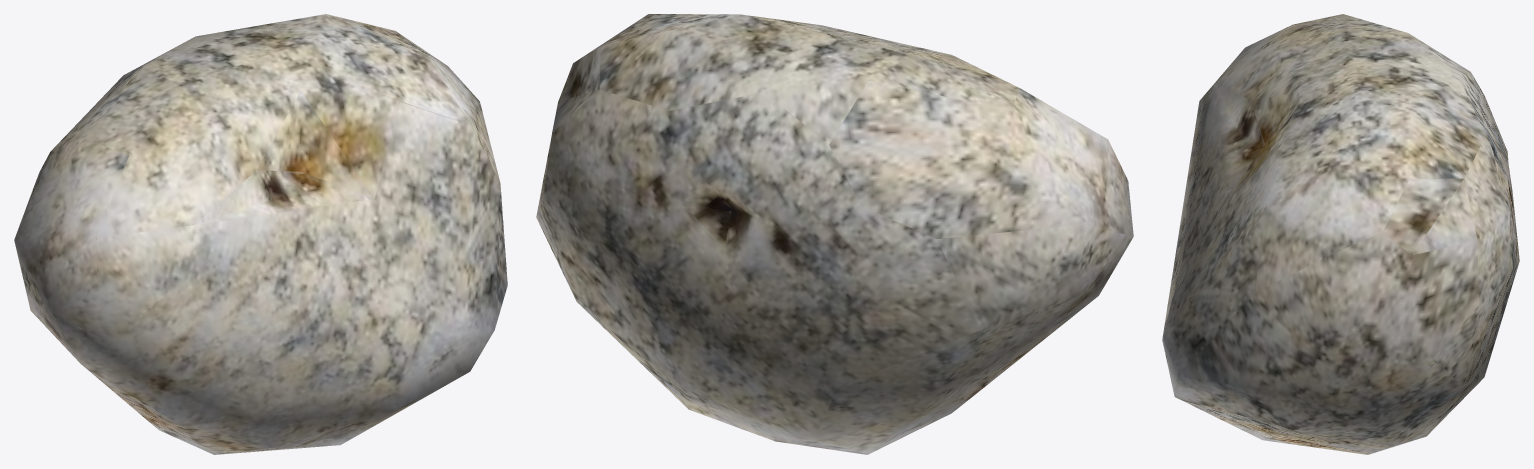
The model's file is rock.glb.
The picture shows the model from 3 angles, left to right: view 1: azimuth 30°, elevation 25°; view 2: azimuth 150°, elevation 25°; view 3: azimuth 270°, elevation 25°; orthographic projection. The views are drawn at different scales.
Parts seen in each view (by area): view 1: rock016_lod4; view 2: rock016_lod4; view 3: rock016_lod4.
Part boxes in pixels (x1,y1,x2,y2): rock016_lod4: (14,14,507,454); rock016_lod4: (536,14,1133,454); rock016_lod4: (1162,14,1519,454).
Bounding box in the file's own units: 1 × 0.7472 × 0.6599.
1 material, 1 textured.
